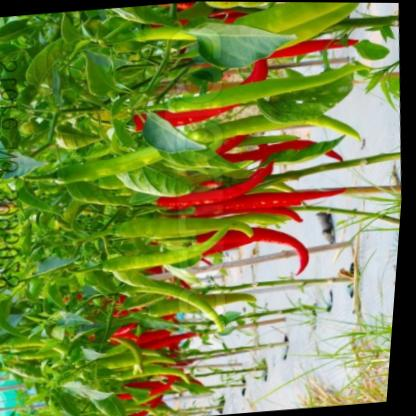--: (127, 53, 375, 122), (59, 205, 264, 257), (113, 160, 282, 217), (55, 236, 240, 279)
